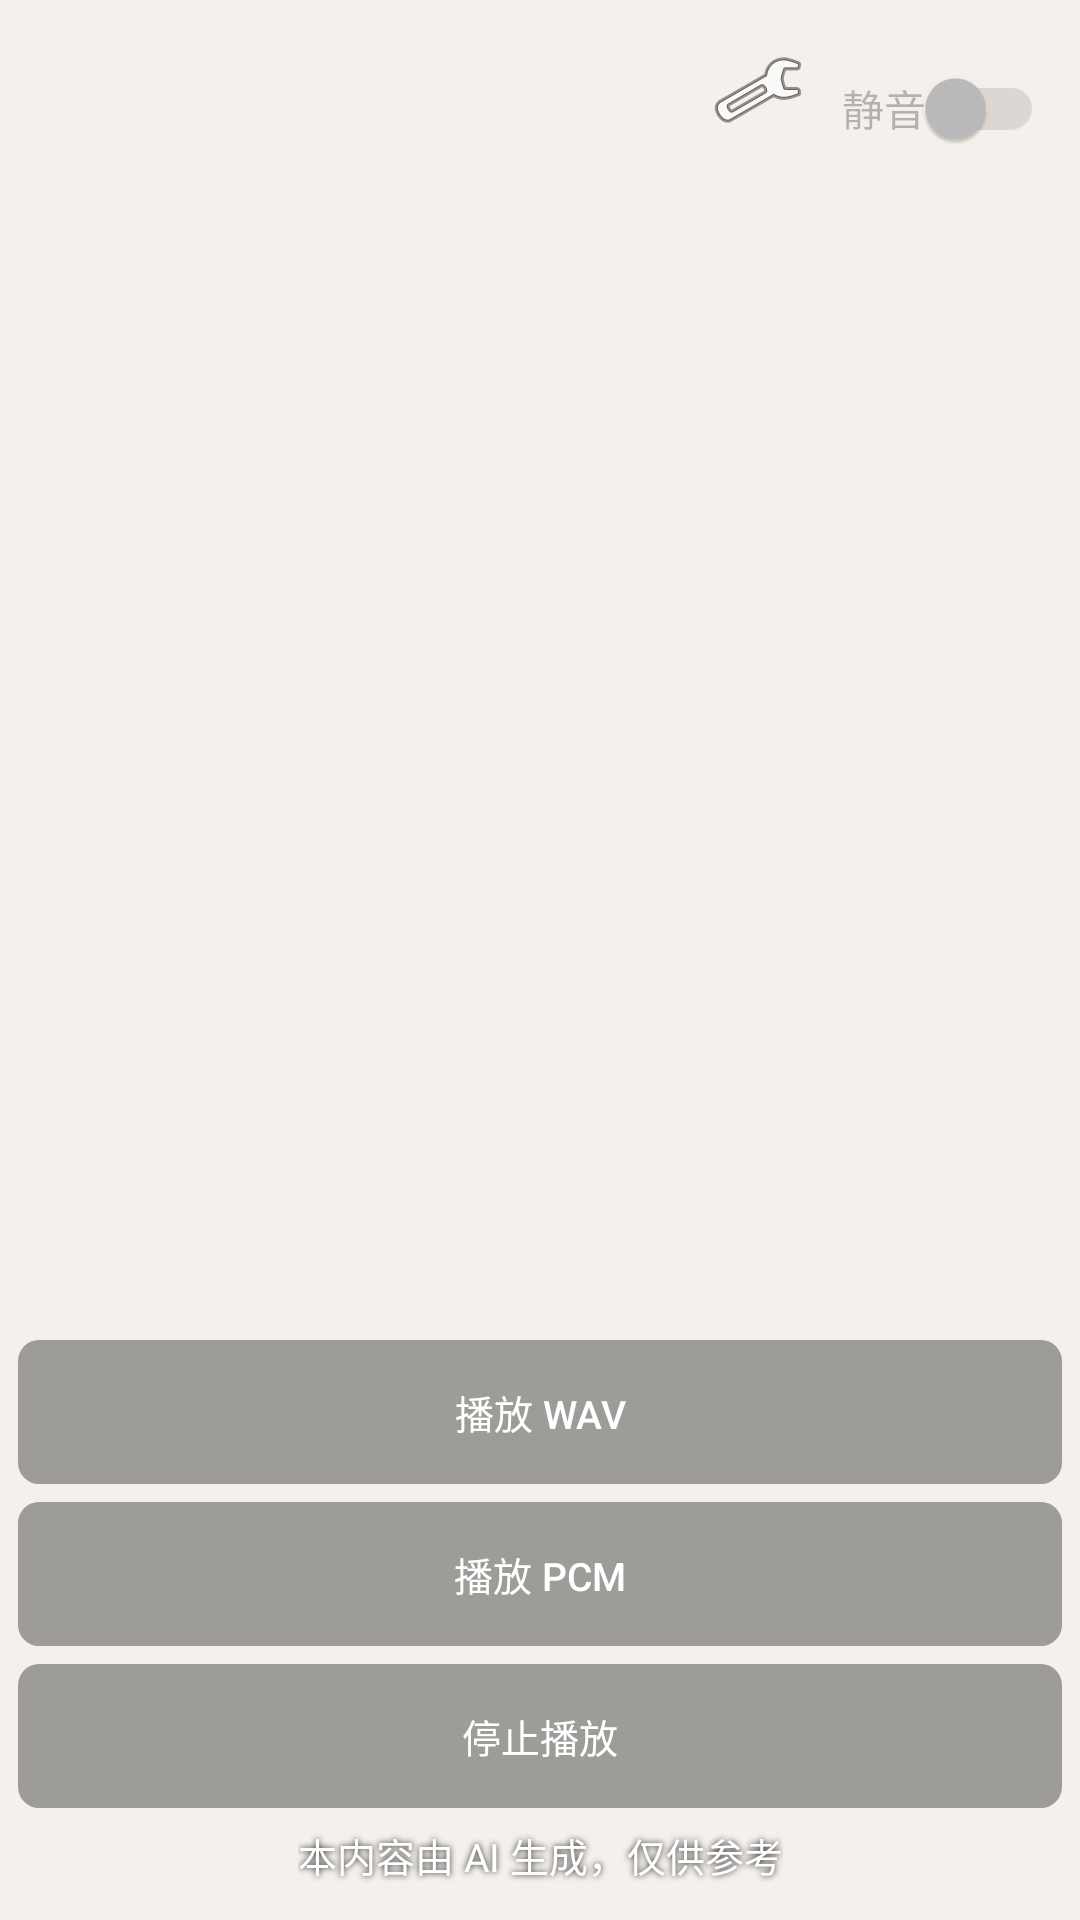

Screen size 1080w x 1920h. Icon name, then its box in pixels as (x1, y1, x2, y2):
设置: (715, 57, 801, 123)
